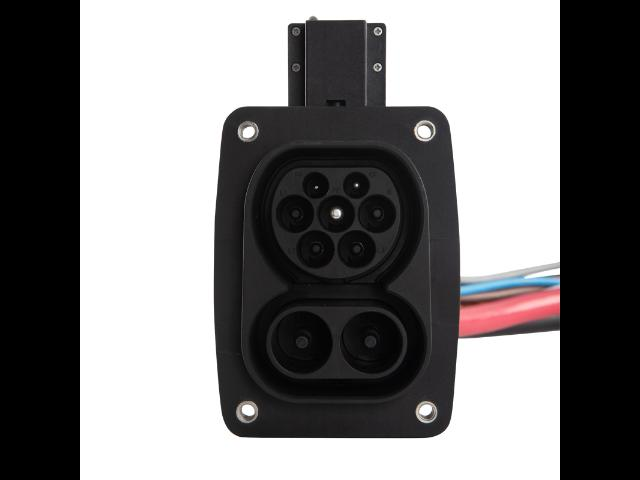inlet: (272, 168, 401, 279)
inlet-above-left: (302, 172, 329, 199)
inlet-above-right: (343, 172, 370, 199)
inlet-below-left: (297, 230, 333, 268)
inlet-below-right: (339, 231, 377, 267)
inlet-circle: (317, 195, 354, 234)
inlet-circle-left: (276, 195, 314, 233)
inlet-circle-right: (359, 195, 395, 232)
inlet-minus: (340, 311, 403, 374)
inlet-plus: (271, 311, 333, 375)
